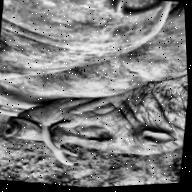boar: (0, 51, 192, 191)
